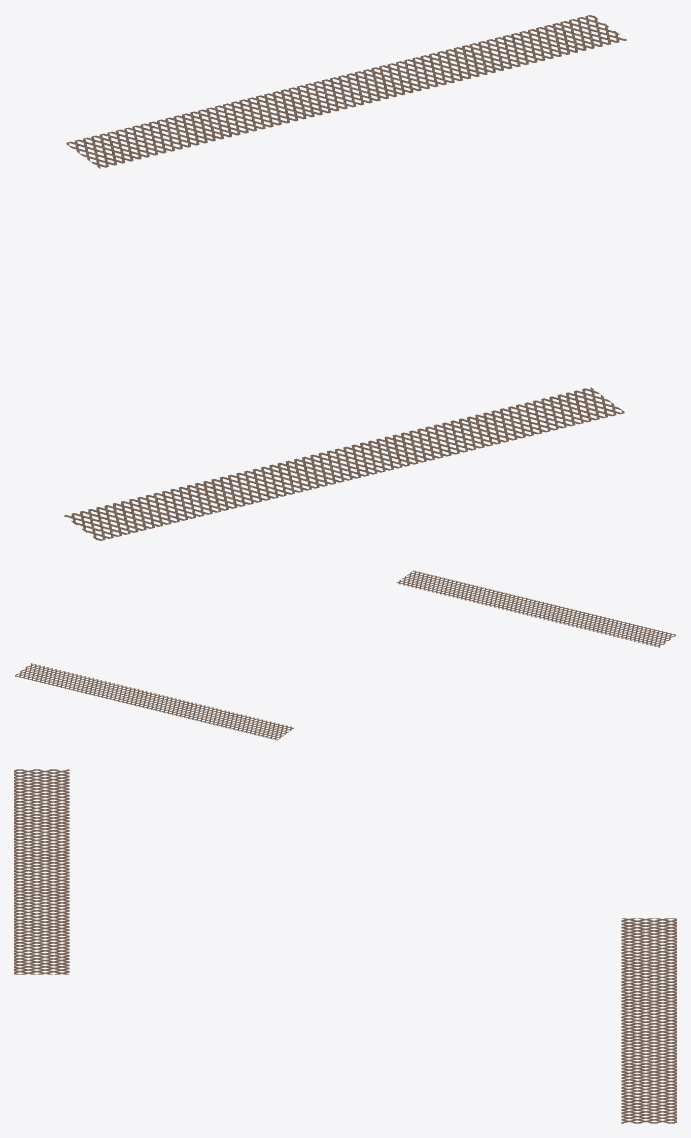
File: SM_NeoLD_07_WireMesh_00.fbx
The picture shows the model from 3 angles, top to bottom: view 1: azimuth 30°, elevation 25°; view 2: azimuth 150°, elevation 25°; view 3: azimuth 270°, elevation 25°; orthographic projection. The views are drawn at different scales.
Parts seen in each view (by area): view 1: SM_NeoLD_07_WireMesh_00; view 2: SM_NeoLD_07_WireMesh_00; view 3: SM_NeoLD_07_WireMesh_00.
Boxes of the visible parts, box(x1,y1,x2,y2) form: SM_NeoLD_07_WireMesh_00: box(64, 15, 626, 540); SM_NeoLD_07_WireMesh_00: box(15, 570, 675, 740); SM_NeoLD_07_WireMesh_00: box(14, 769, 676, 1123).
Bounding box in the file's own units: 2738 × 1.48 × 2169.
